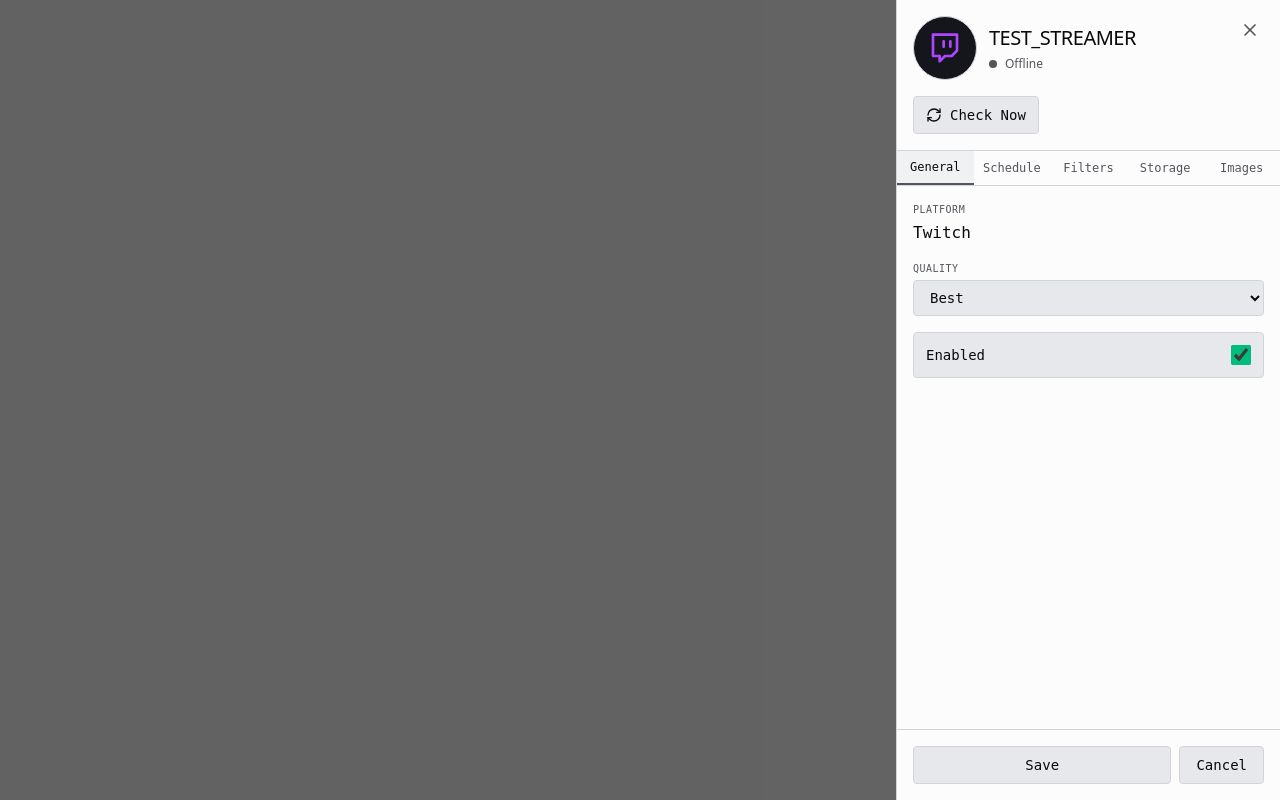
Scenario: ChannelDetailPanel › tab system › switching tabs updates content
Expected: the text "Quality" is shown, [913, 263, 959, 274]
Note: Switch to Storage tab
What coordinates should you click on to do the following:
click the button "Storage"
I would click on:
 (1165, 168)
Its box is [1127, 151, 1203, 185].
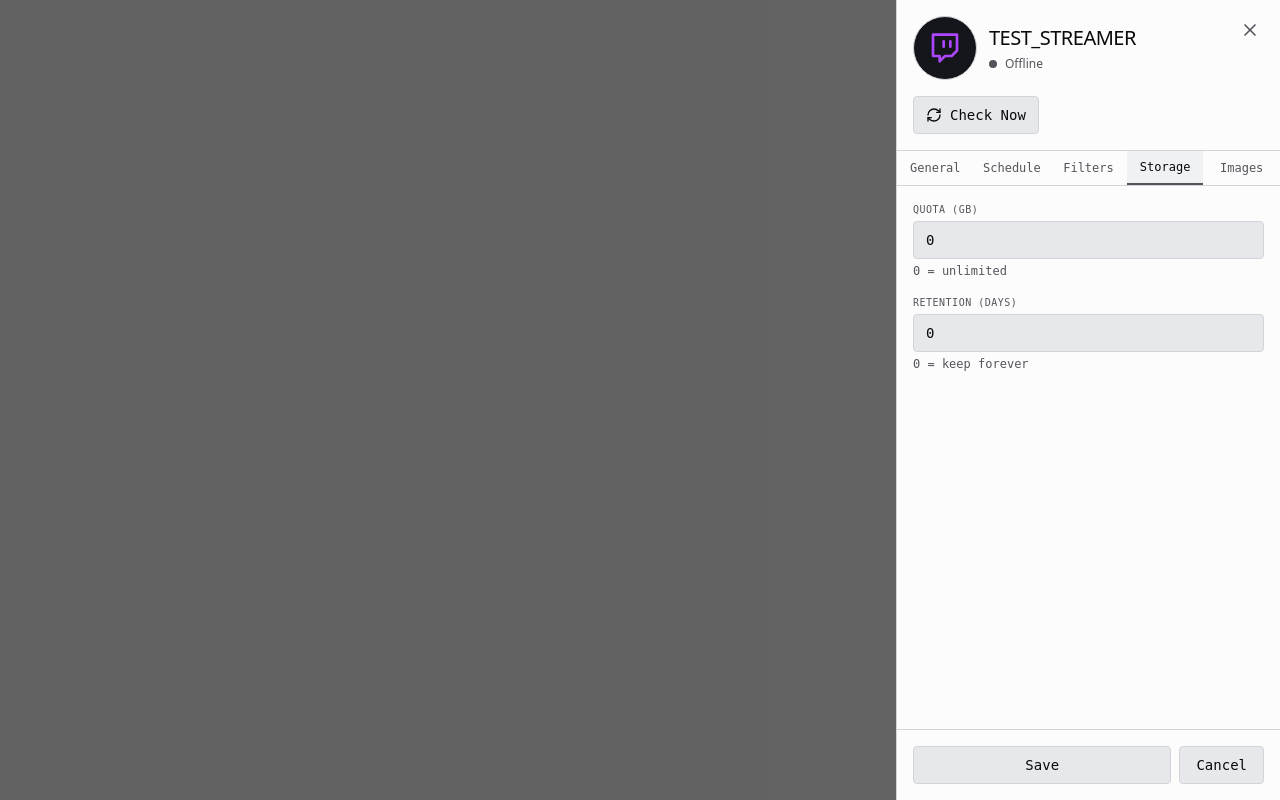
Expected: the text "Quota (GB)" is shown, [913, 204, 978, 215]
Expected: the text "Retention (days)" is shown, [913, 297, 1017, 308]
